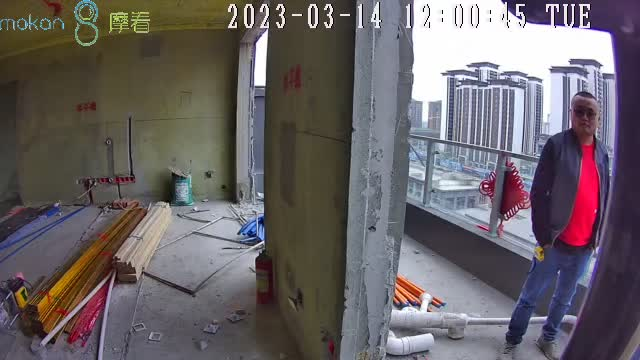people: (495, 92, 613, 360)
window: (410, 16, 617, 267)
